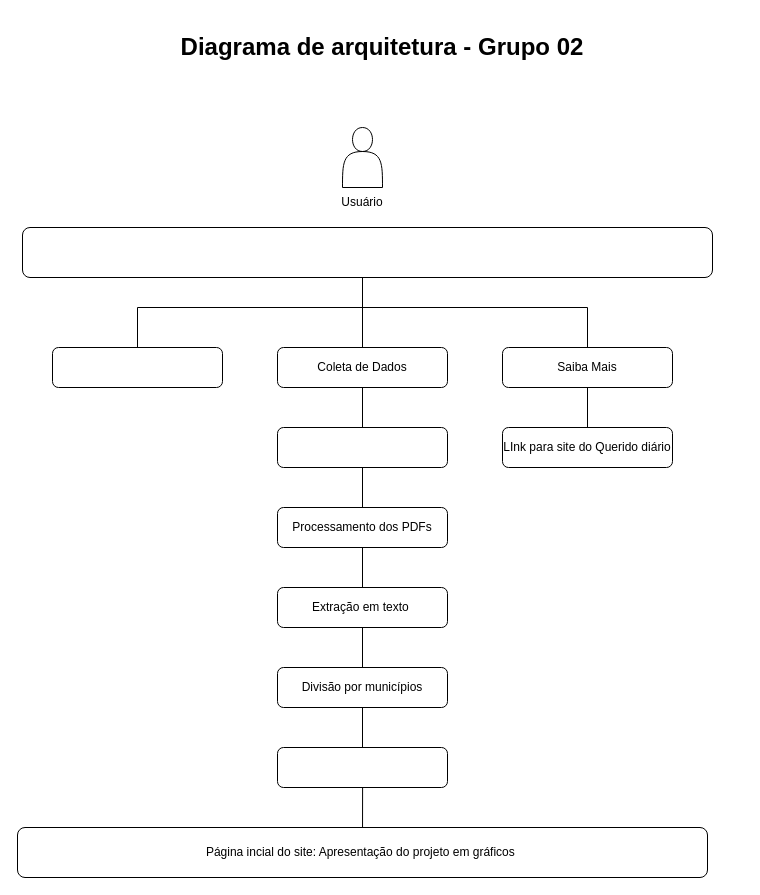
This 760x895 diagram has some shape labels left out. The centre of each missing label's shape, as x and y in pixels:
Extração de dados da licitação em json: the point at 362,767
Iniciar raspagem de dados (Spiders): the point at 362,447
Página incial do site: Apresentação do projeto: the point at 367,252
Quem somos: the point at 137,367
